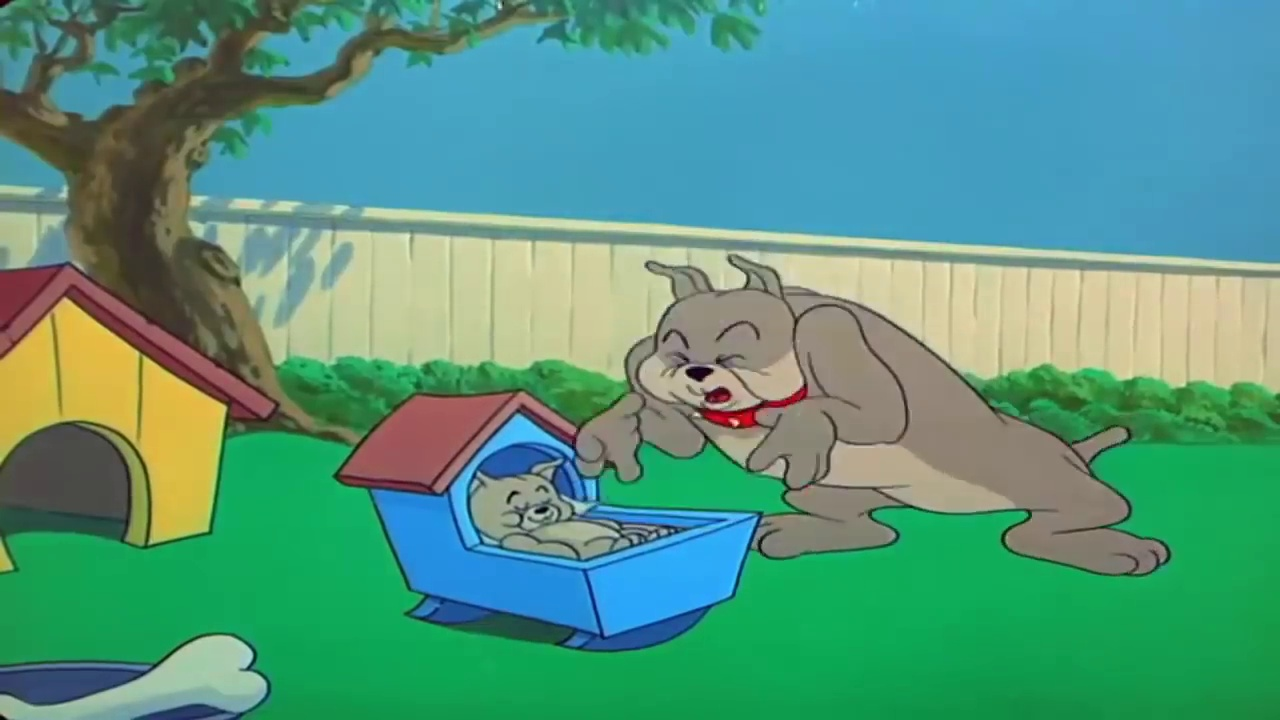spike: (630, 252, 811, 431)
